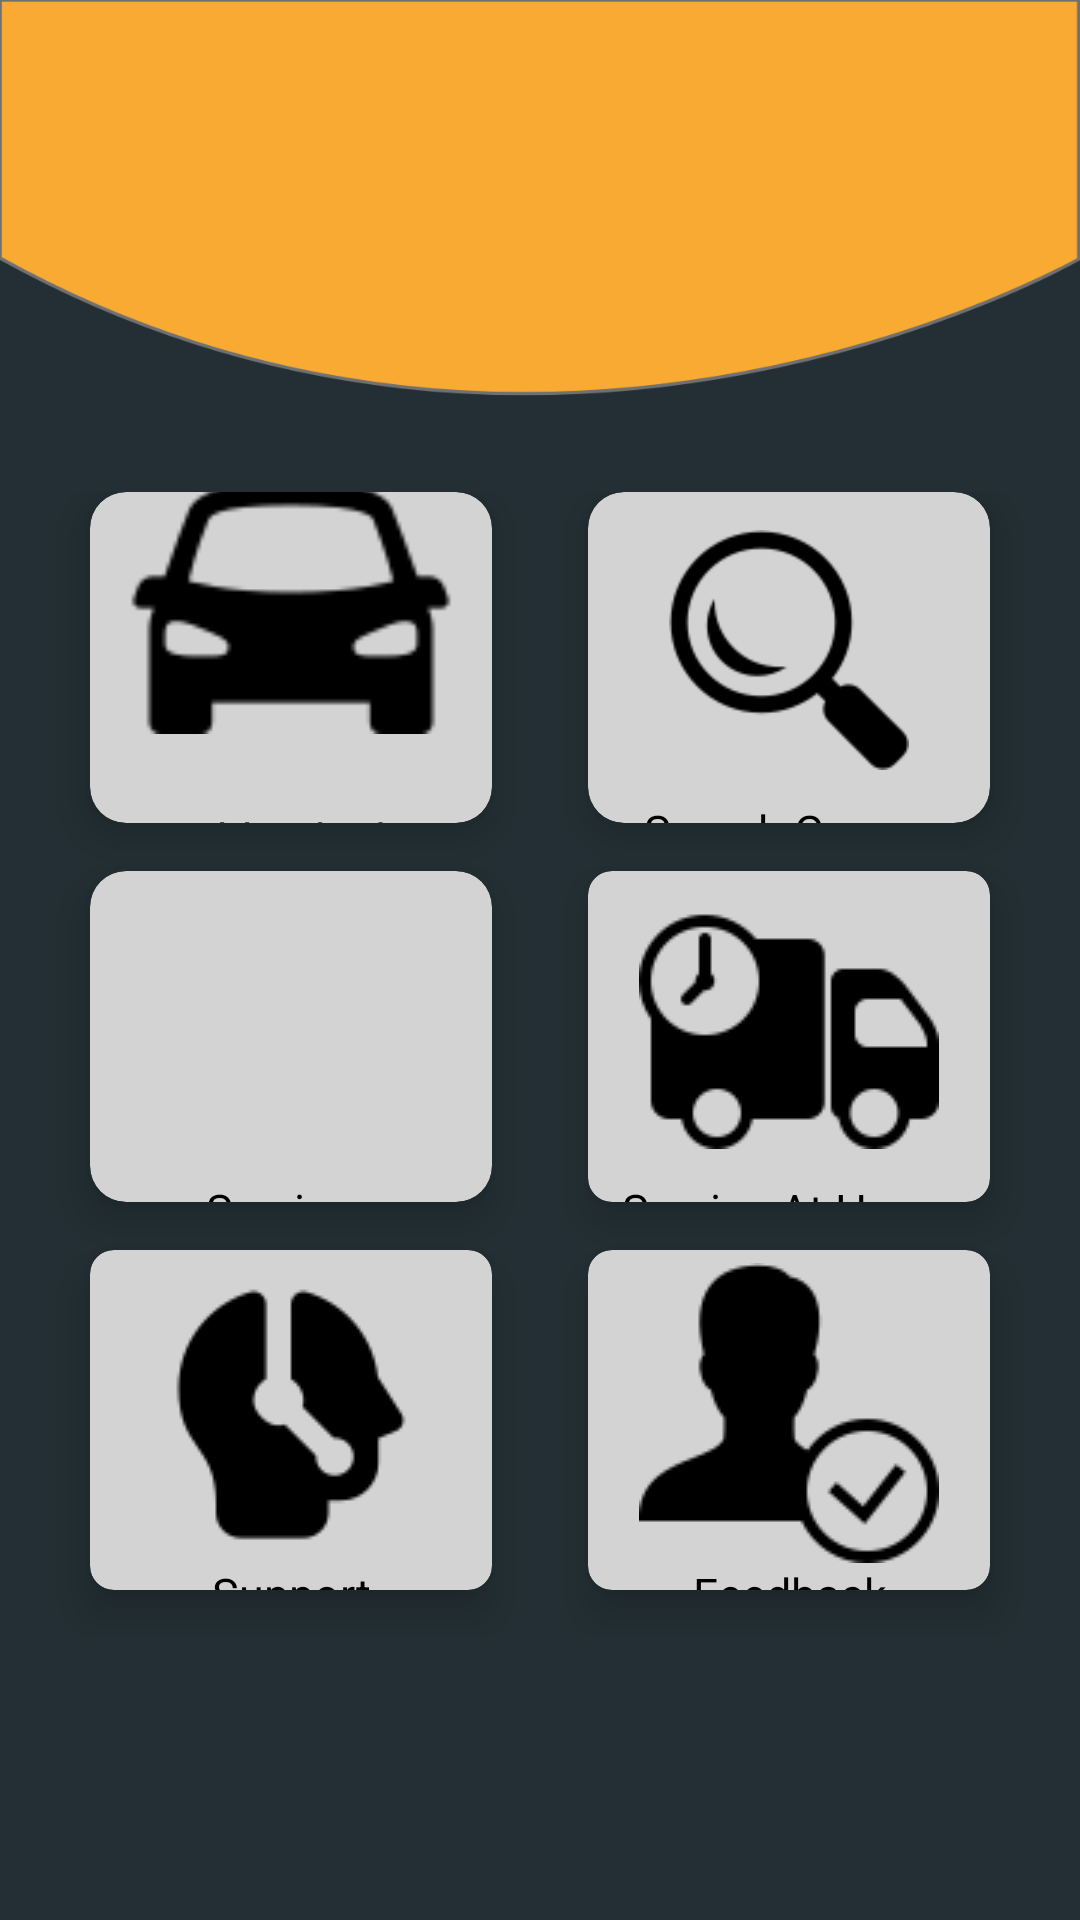

Named icons in this screenshot (1080x1920) and their centers, point (x, y):
contact us: point (291, 1414)
